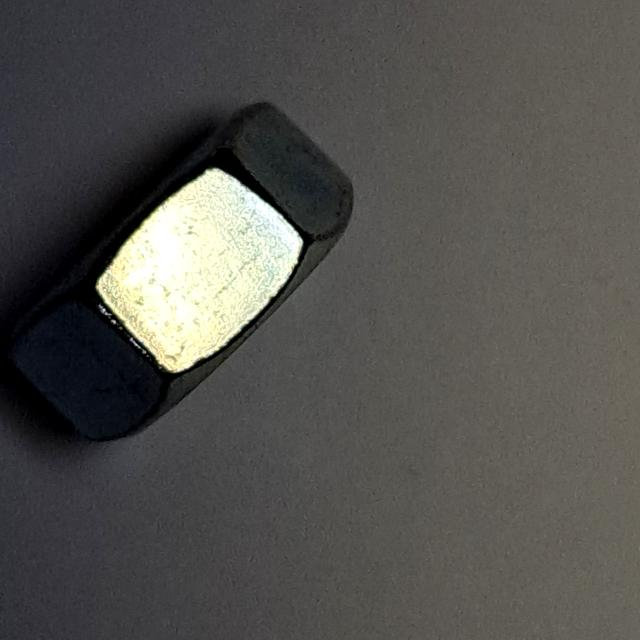Side_Excellent: (1, 85, 370, 466)
